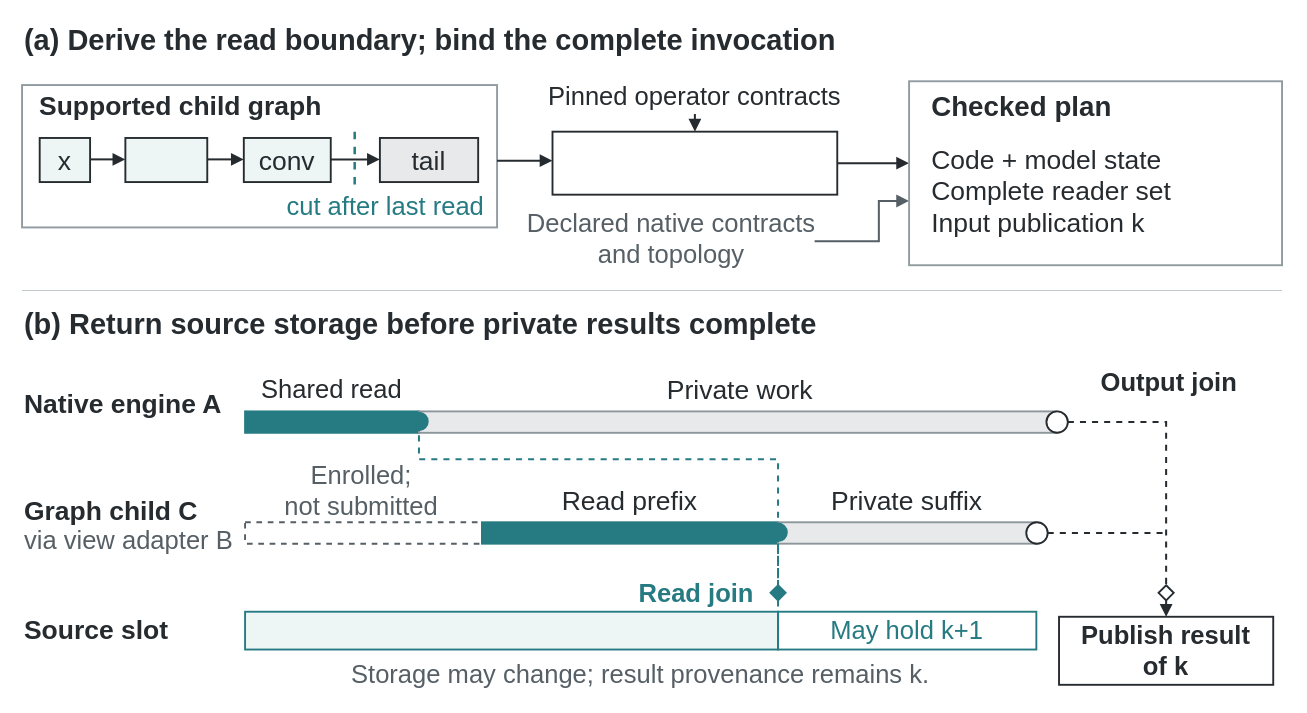
This 1307x713 diagram has some shape labels left out. The shapes that lost their labels are listed below. From the top down, each one's centre as x and y in pixels, then its label:
pixel 166 159: view
pixel 694 162: Read-set analysis
pixel 511 630: Publication k protected
